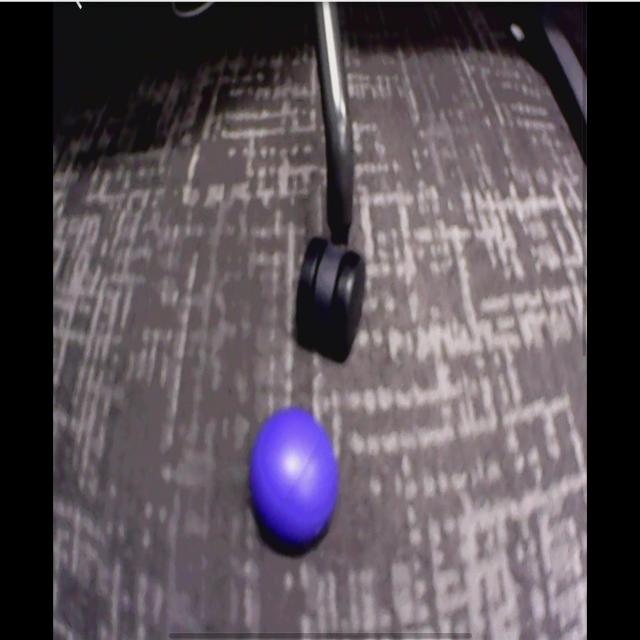ball: (251, 409, 337, 542)
